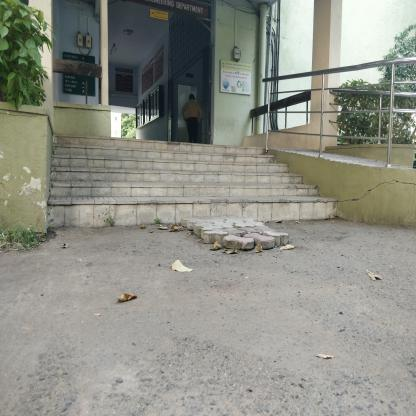stairs: (71, 145, 236, 233)
